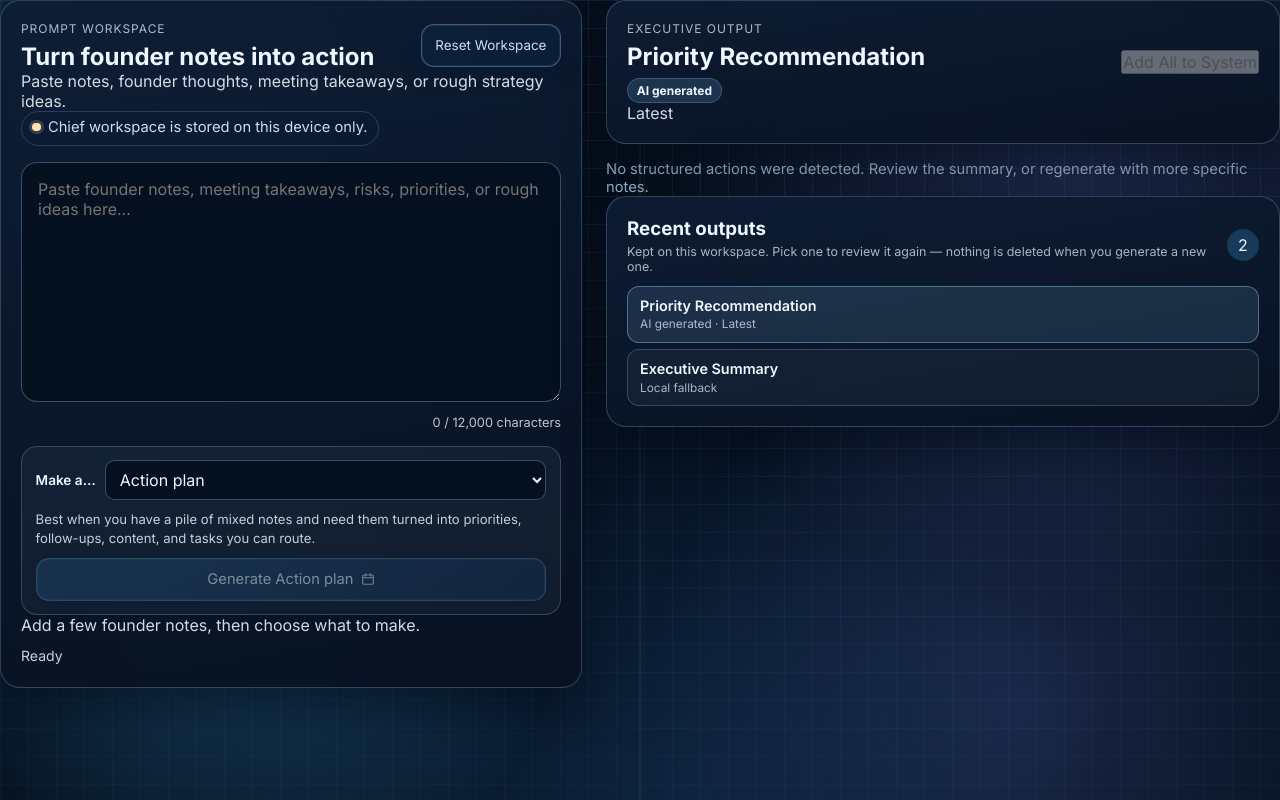
Test case: src/pages/ChiefOfStaff › renders recent outputs history and lets the user view an earlier one
Expected: the heading "Recent outputs" is shown, [627,217,766,240]
Expected: the text "You're viewing an earlier output" is not shown
Click the button "Executive Summary Local fallback": (709, 369) [627,349,1259,406]
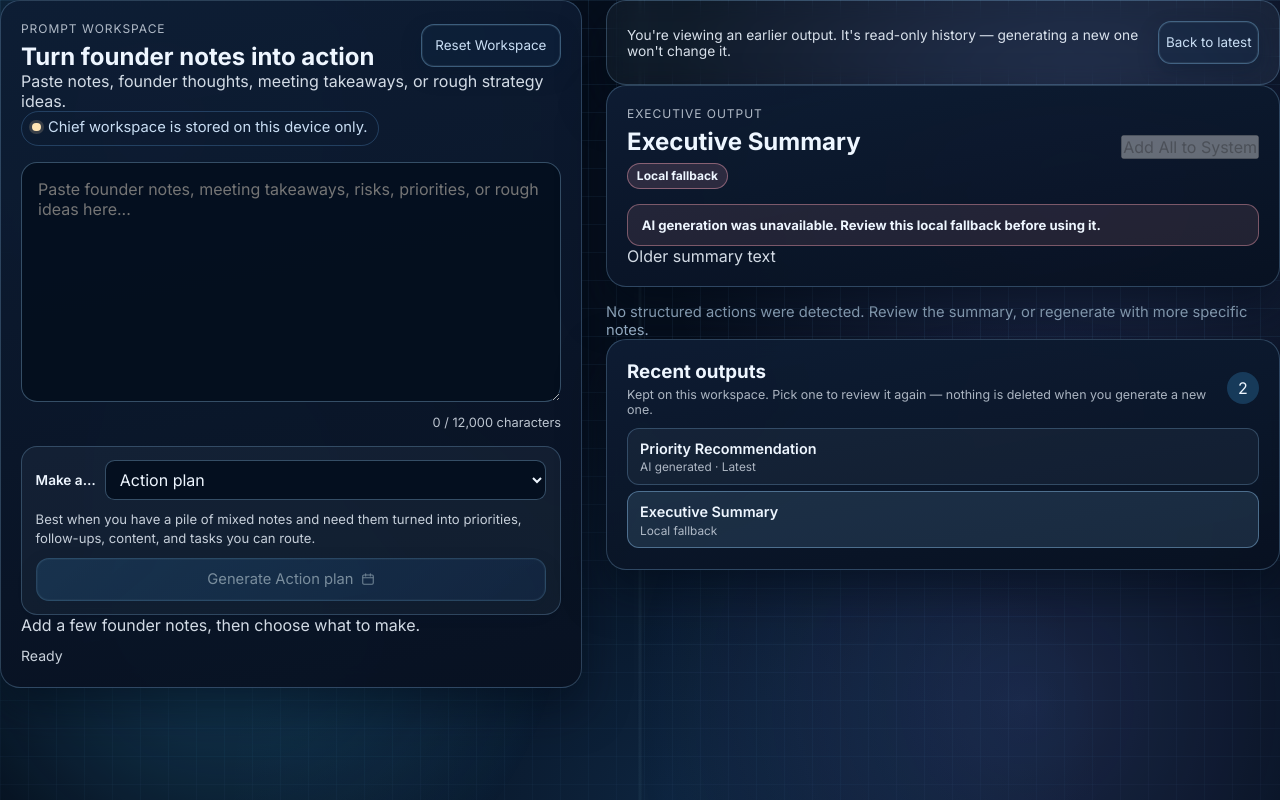
Expected: the text "You're viewing an earlier output" is shown, [627,27,1138,59]
Click the button "Back to latest": (1209, 43) [1158,21,1259,64]
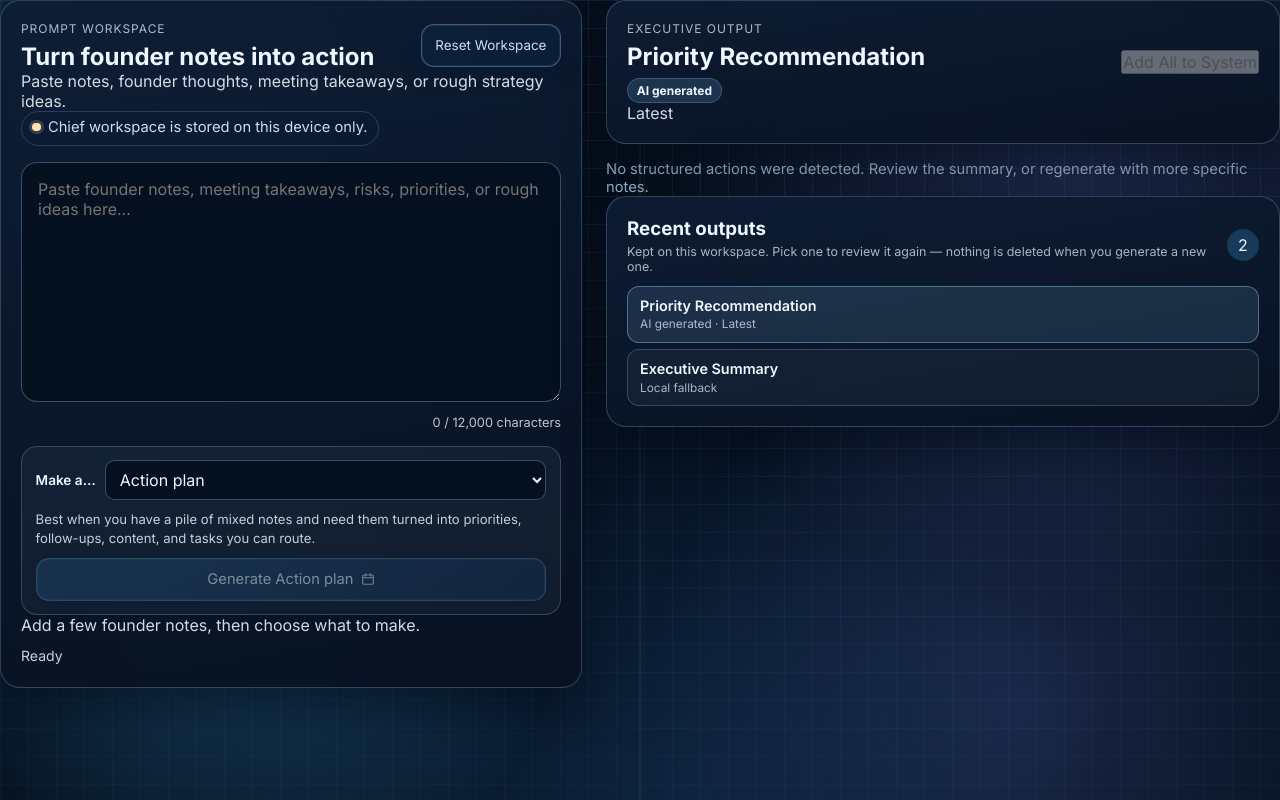
Expected: the text "You're viewing an earlier output" is gone
